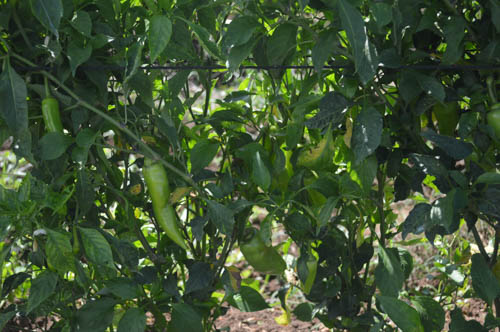ChiliPepper: (145, 159, 192, 247), (242, 234, 290, 274), (42, 95, 66, 142)
